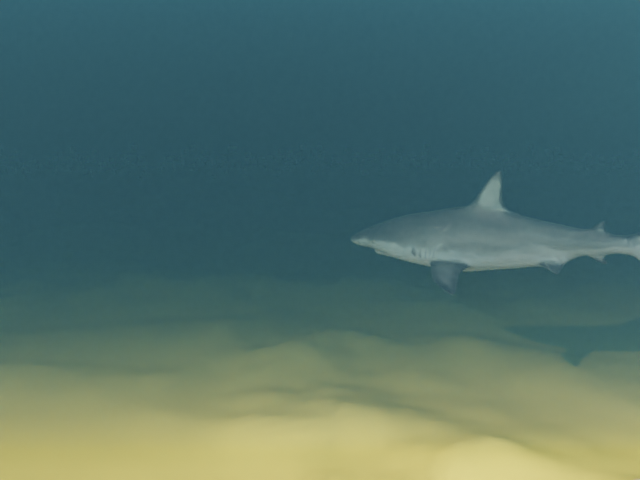Carribean Shark.001: (350, 170, 640, 294)
